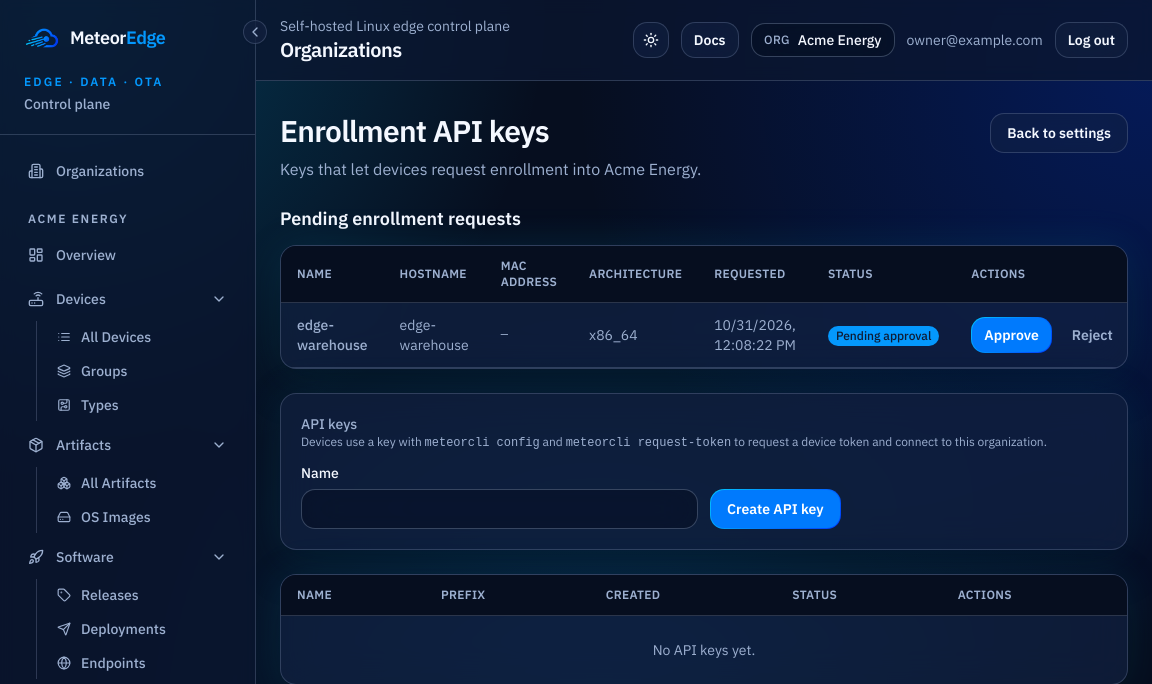
it: API keys › approves a pending enrollment request
The width and height of the screenshot is (1152, 684).
Expected: the column heading "Requested" is shown, x1=698 y1=246 x2=812 y2=302
Click the button "Approve" at (1012, 335), box x1=971 y1=317 x2=1052 y2=353
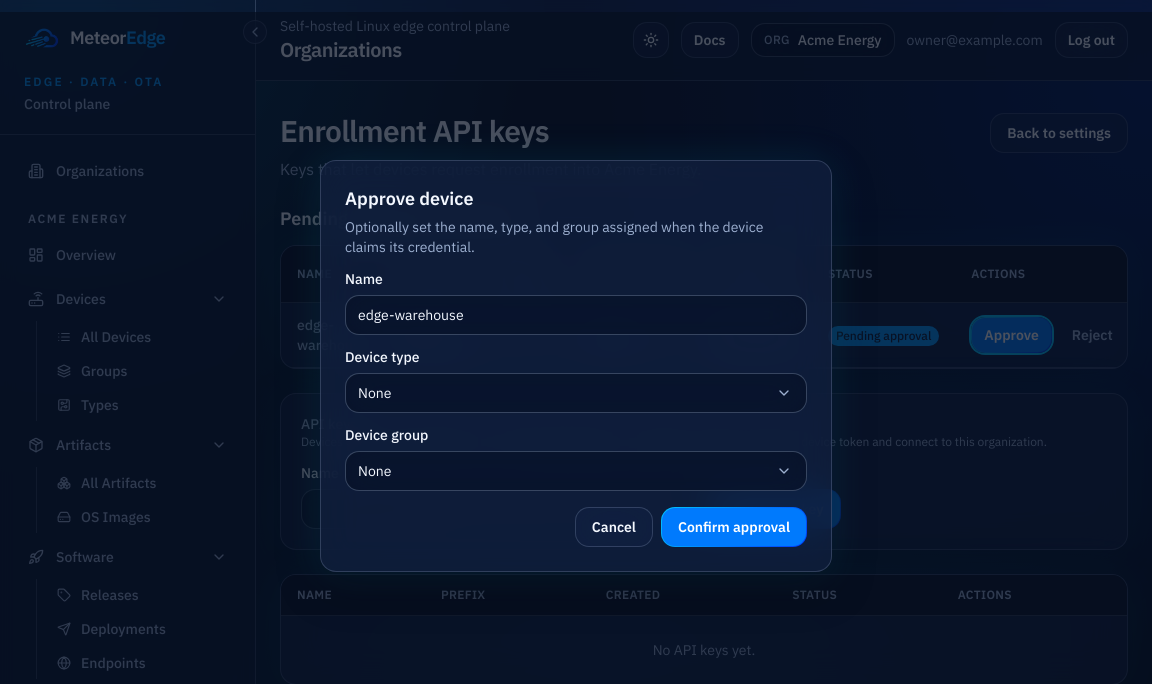
Click the button "Confirm approval" at (734, 527), box x1=661 y1=507 x2=807 y2=547
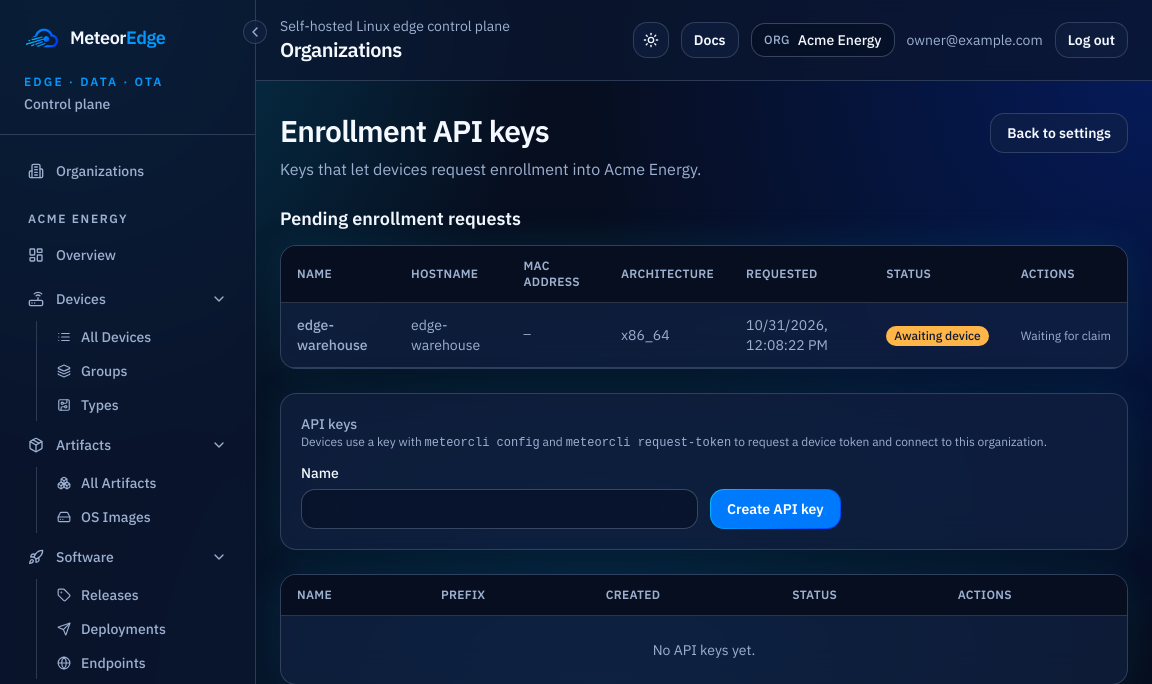
Now the text "Awaiting device" is shown, box x1=886 y1=326 x2=989 y2=346
Now the button "Approve" is gone
